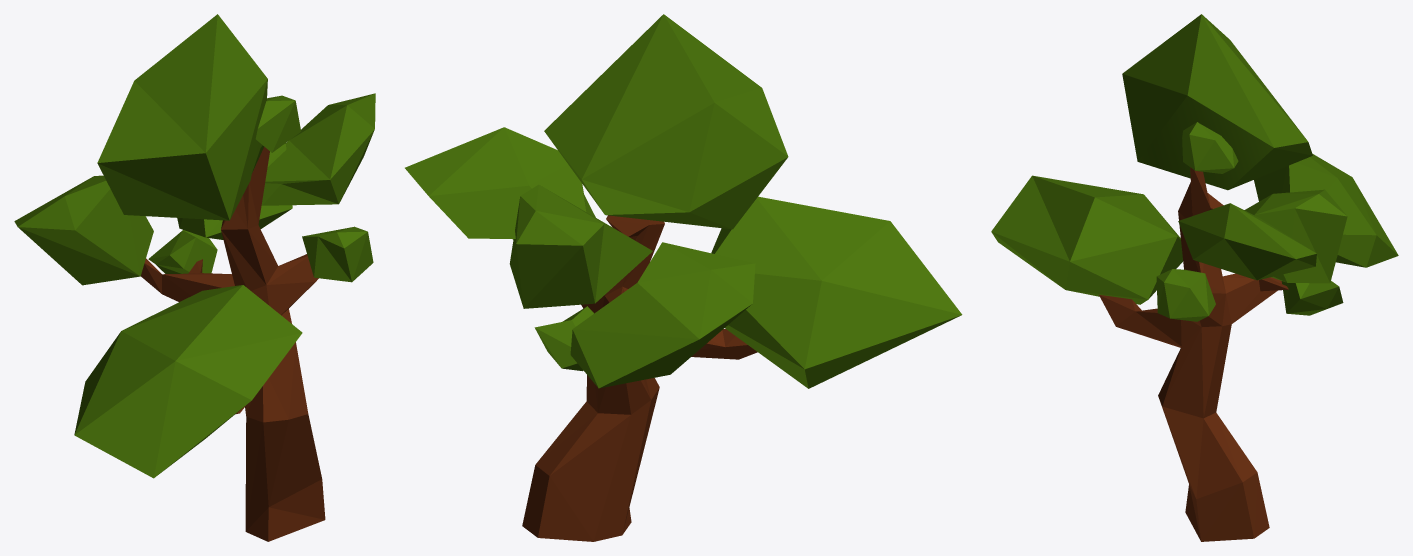
Rendered from tree.FBX.
The picture shows the model from 3 angles, left to right: view 1: azimuth 30°, elevation 25°; view 2: azimuth 150°, elevation 25°; view 3: azimuth 270°, elevation 25°; orthographic projection. The views are drawn at different scales.
Parts seen in each view (by area): view 1: Object001; view 2: Object001; view 3: Object001.
Boxes of the visible parts, x1,y1,x2,y2 form: Object001: (14, 14, 375, 541); Object001: (405, 14, 962, 541); Object001: (991, 14, 1398, 541).
Size of the model in its own units: 150 by 176 by 135.
